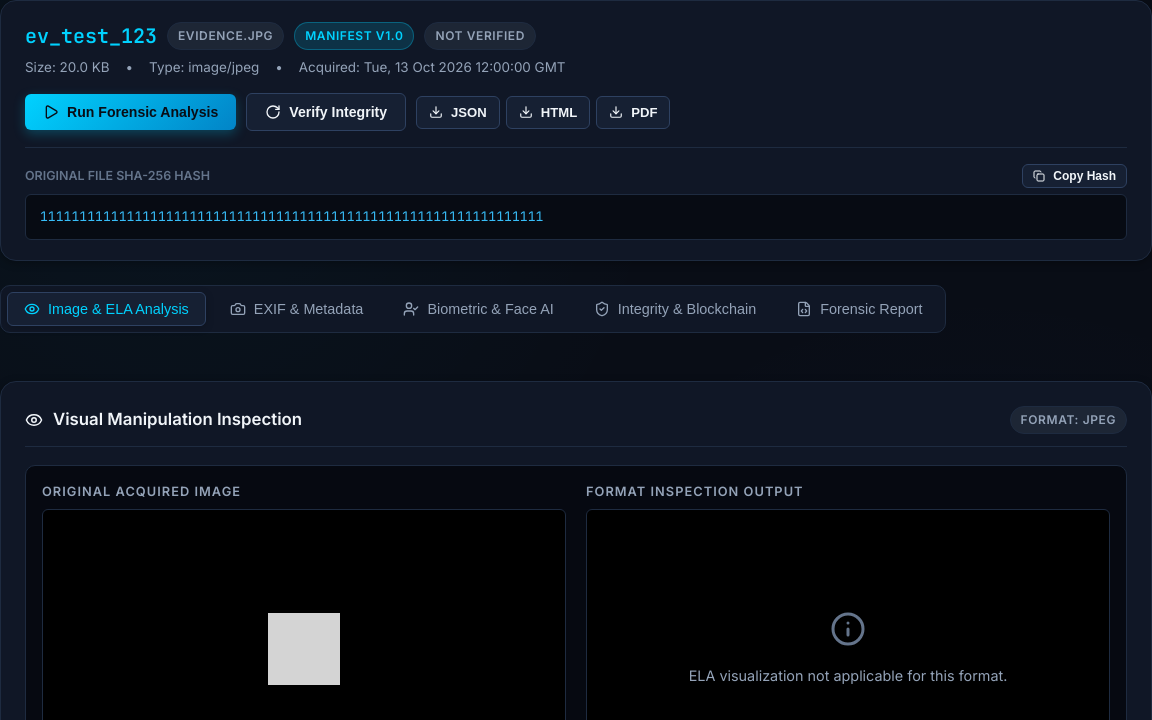
Test: Integrity Display & Visual Indicators › displays green ONLY when all 3 checks genuinely pass
The image size is (1152, 720).
Click the button "Verify Integrity" at (326, 112), box [246,93,406,131]
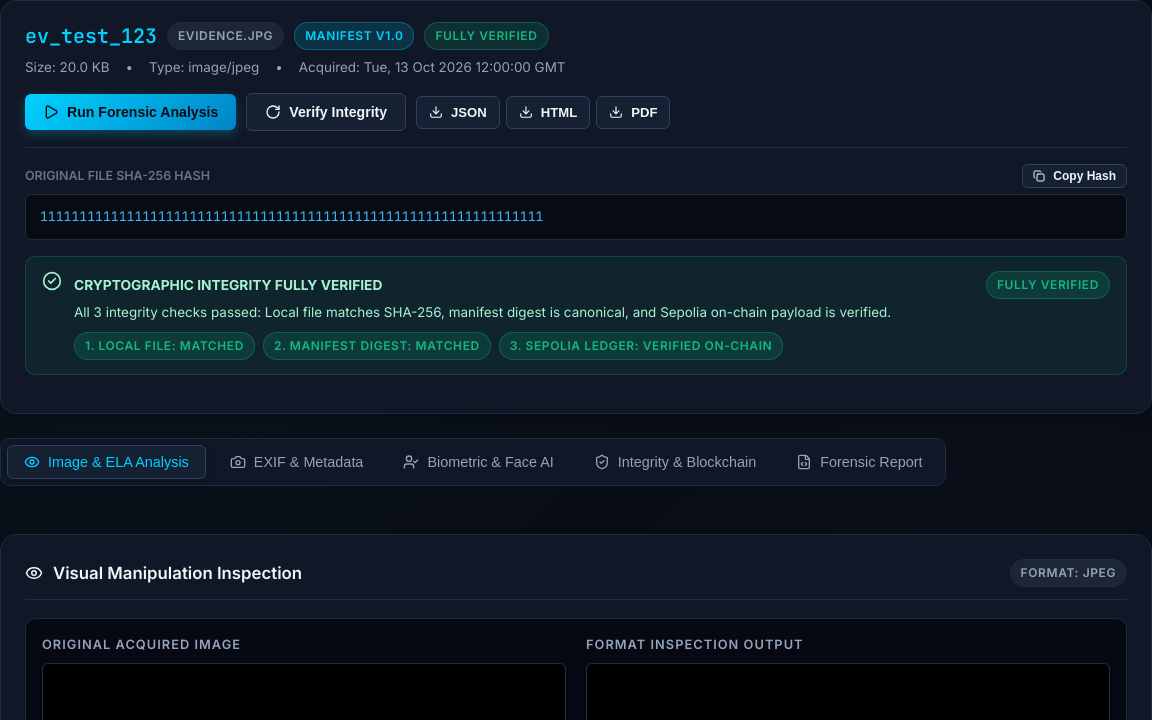
Expected: the text "CRYPTOGRAPHIC INTEGRITY FULLY VERIFIED" is shown, [74,274,382,295]
